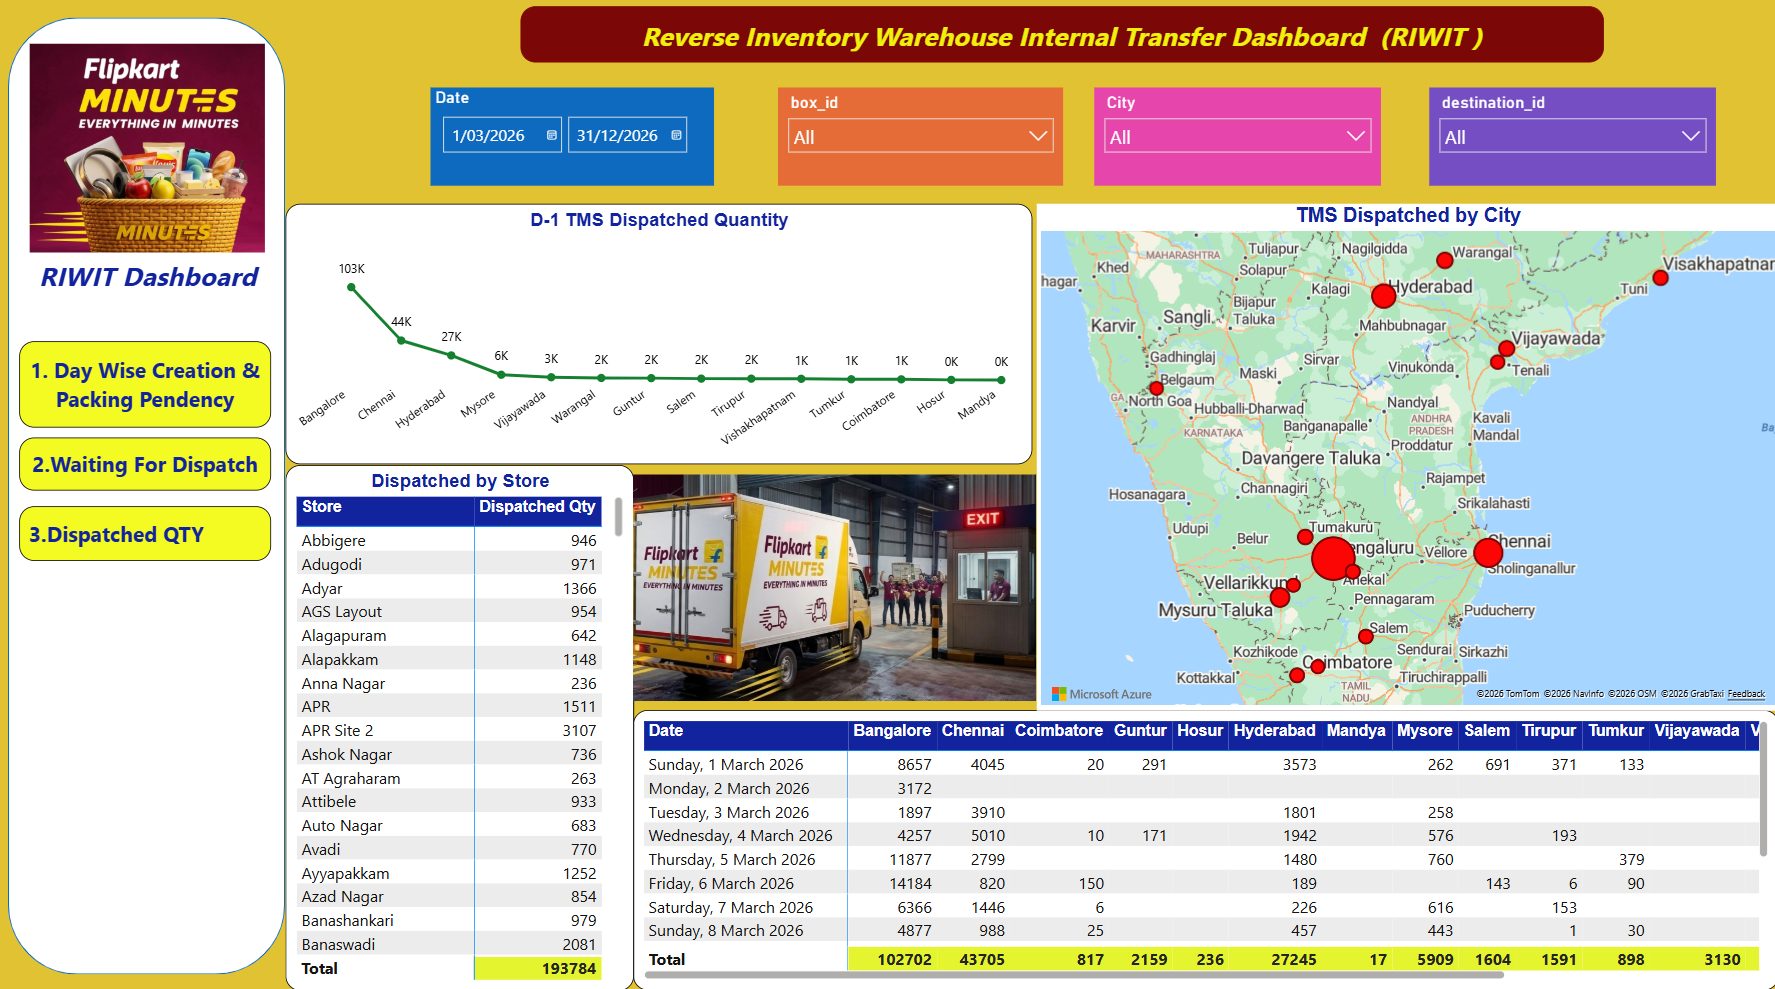

The dashboard page shown, as its layout file describes it:
{"tool":"powerbi","page":{"name":"D-1 TMS Dispatched QTY","canvas":[1800,1000],"ordinal":2},"visuals":[{"type":"shape","box":[9.6,17.4,279.8,966.8],"z":0},{"type":"slicer","title":"Date","fields":{"Values":["Date.Date"]},"box":[437.3,88.8,286.5,98.9],"z":1000},{"type":"pivotTable","fields":{"Rows":["Date.Date"],"Values":["Sum(D-1 TMS Dispatched Raw (2).Dispatched Qty)"],"Columns":["Cities Table.City"]},"box":[641.8,717.2,1157.8,283.2],"z":2000},{"type":"slicer","title":"Date","fields":{"Values":["Cities Table.City"]},"box":[1107.6,88.8,289.9,98.9],"z":3000},{"type":"lineChart","title":"Dispatched Quantity by City","fields":{"Category":["Cities Table.City"],"Y":["Sum(D-1 TMS Dispatched Raw (2).Dispatched Qty)"]},"box":[289.9,206.1,754,263.1],"z":4000},{"type":"actionButton","box":[21.8,345.2,254.7,87.1],"z":5000},{"type":"actionButton","box":[21.8,442.4,254.7,53.6],"z":6000},{"type":"textbox","box":[527.8,6.7,1094.2,57],"z":7000},{"type":"image","box":[0,43.6,301.6,237.9],"z":8000},{"type":"textbox","box":[26.8,254.7,249.7,57],"z":9000},{"type":"azureMap","title":"Dispatched by City","fields":{"Size":["Sum(Picking Raw Data.Process qty)"],"Category":["Picking Raw Data.Pincode"]},"box":[1048.9,206.1,750.7,511.1],"z":10000},{"type":"pivotTable","title":"Dispatched by Store","fields":{"Rows":["D-1 TMS Dispatched Raw (2).Store"],"Values":["Sum(D-1 TMS Dispatched Raw (2).Dispatched Qty)"]},"box":[289.9,469.2,351.9,531.2],"z":11000},{"type":"slicer","title":"Date","fields":{"Values":["D-1 TMS Dispatched Raw (2).destination_id"]},"box":[1446.1,88.8,289.9,98.9],"z":12000},{"type":"image","box":[641.8,469.2,407.2,248],"z":13000},{"type":"actionButton","box":[21.8,511.1,254.7,55.3],"z":14000},{"type":"slicer","title":"Date","fields":{"Values":["D-1 TMS Dispatched Raw (2).box_id"]},"box":[787.5,88.8,288.2,98.9],"z":15000}]}

Visuals, with their boxes in screenshot pixels (x1, y1, x2, y2), scaled from the page's 1800x1000 canvas onto the 1775x989 screenshot:
shape: (left=9, top=17, right=285, bottom=973)
"Date" slicer: (left=431, top=88, right=714, bottom=186)
pivotTable - Date.Date x Sum(D-1 TMS Dispatched Raw (2).Dispatched Qty): (left=633, top=709, right=1774, bottom=988)
"Date" slicer: (left=1092, top=88, right=1378, bottom=186)
"Dispatched Quantity by City" lineChart: (left=286, top=204, right=1029, bottom=464)
actionButton: (left=21, top=341, right=273, bottom=428)
actionButton: (left=21, top=438, right=273, bottom=491)
textbox: (left=520, top=7, right=1599, bottom=63)
image: (left=0, top=43, right=297, bottom=278)
textbox: (left=26, top=252, right=273, bottom=308)
"Dispatched by City" azureMap: (left=1034, top=204, right=1774, bottom=709)
"Dispatched by Store" pivotTable: (left=286, top=464, right=633, bottom=988)
"Date" slicer: (left=1426, top=88, right=1712, bottom=186)
image: (left=633, top=464, right=1034, bottom=709)
actionButton: (left=21, top=505, right=273, bottom=560)
"Date" slicer: (left=777, top=88, right=1061, bottom=186)
